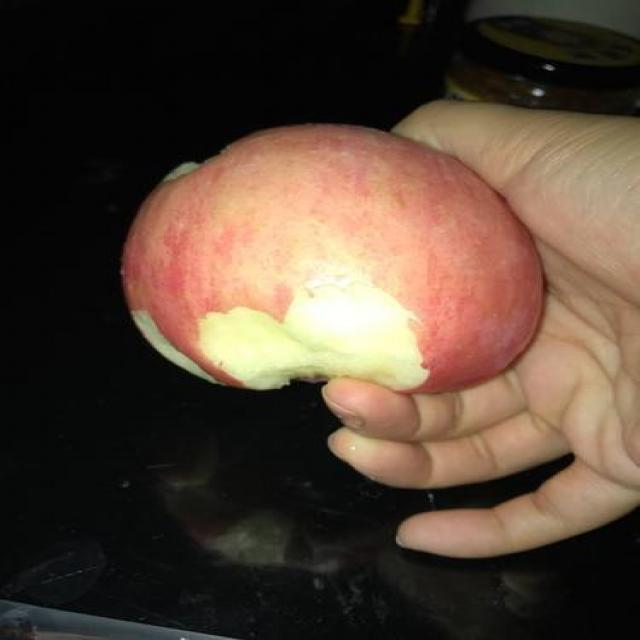Rotten: (111, 116, 544, 407)
